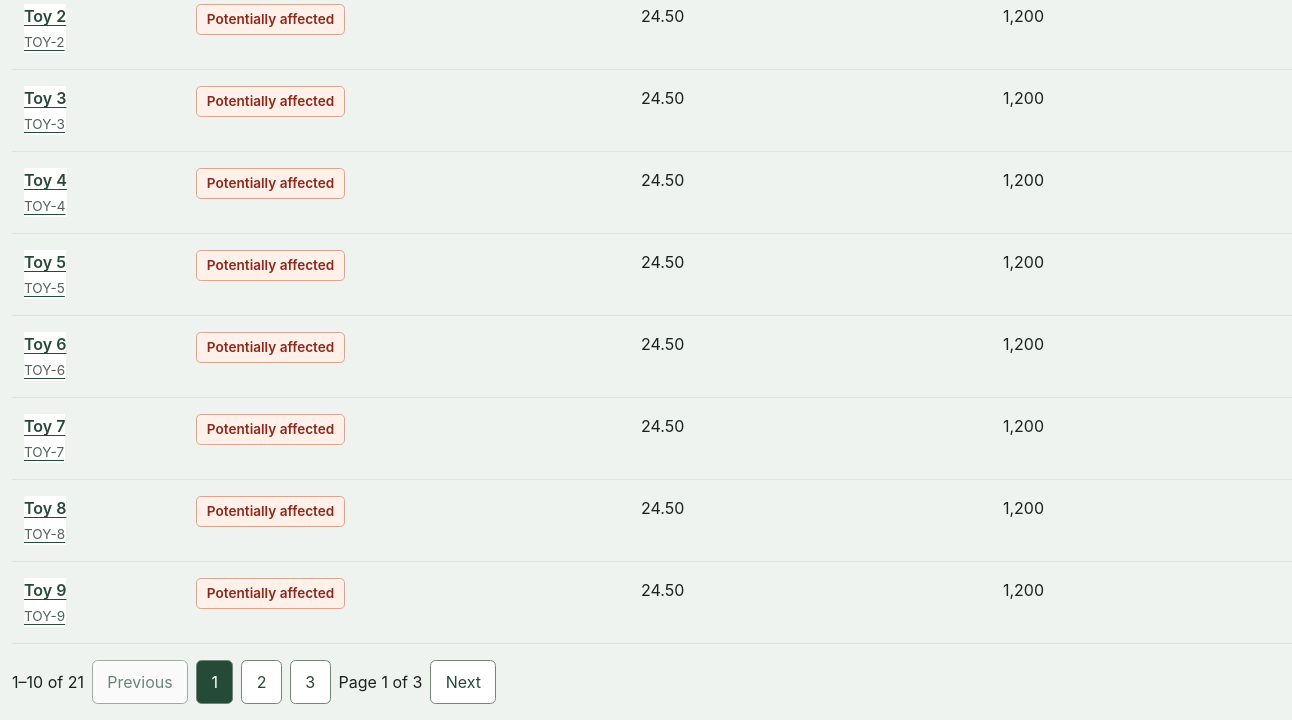
it: paginates toys on the server and keeps totals global
(page scrolled)
Check: the text "1–10 of 21" is shown, box [12,670,84,694]
Check: the button "Previous" is disabled, box [92,660,188,704]
Click the button "Next" at [463, 682], box [430,660,496,704]
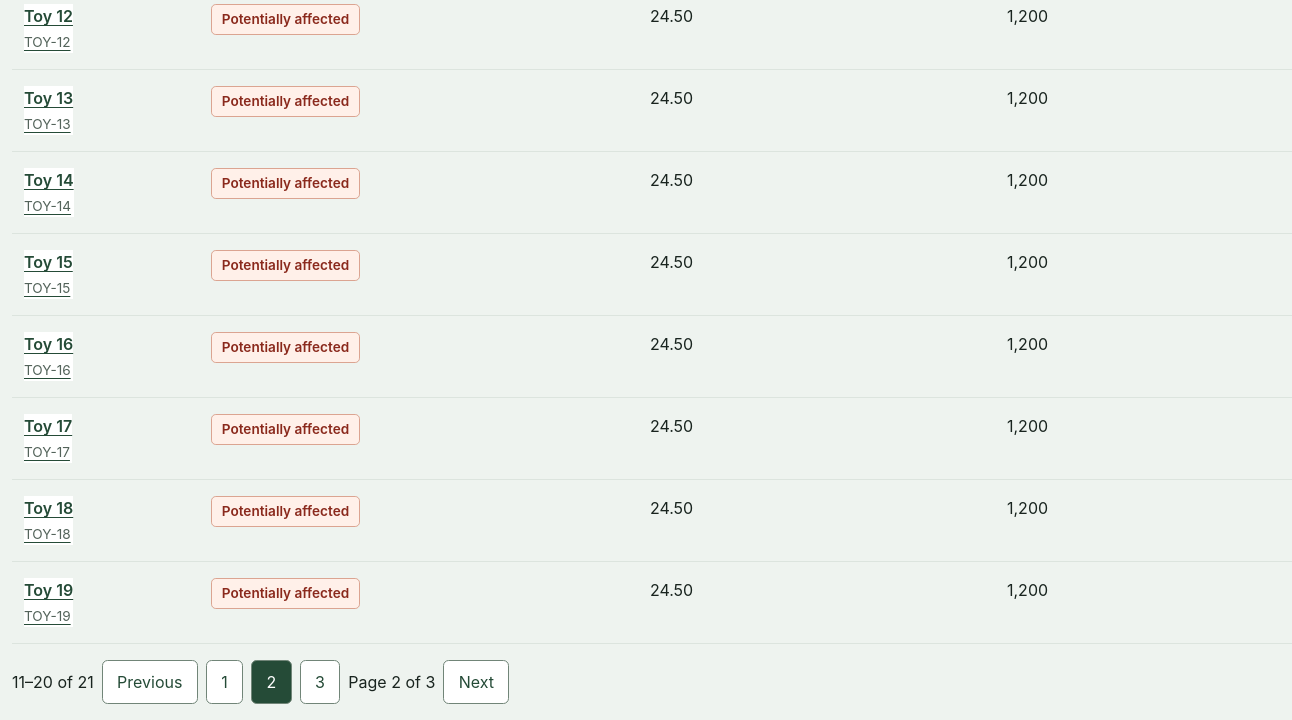
Check: the text "11–20 of 21" is shown, box [12,670,94,694]
Click the button named "Page 3" at [320, 682], box [300,660,340,704]
(page scrolled)
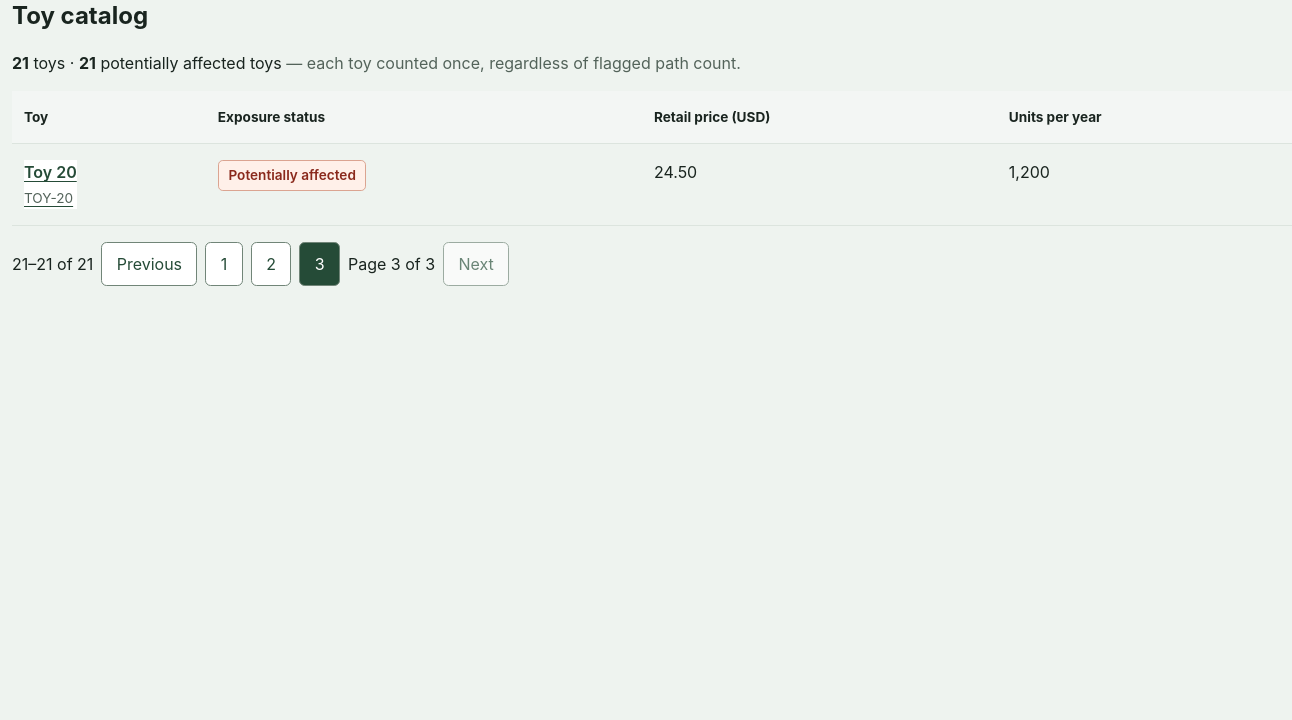
Check: the text "21–21 of 21" is shown, box [12,252,93,276]
Check: the number of rows is 2, box [12,91,1291,144]; [12,144,1291,226]
Check: the button "Next" is disabled, box [443,242,509,286]
Click the button "Previous" at [149, 264], box [101,242,197,286]
(page scrolled)
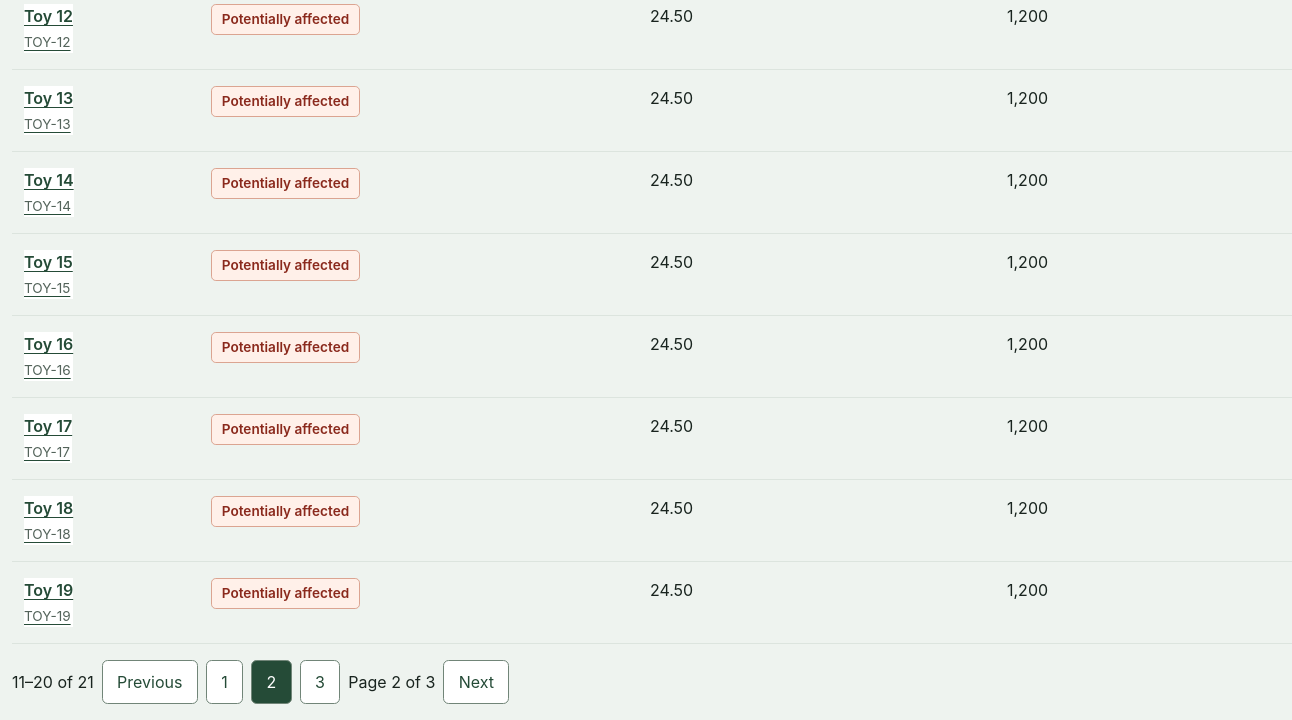
Check: the text "11–20 of 21" is shown, box [12,670,94,694]
